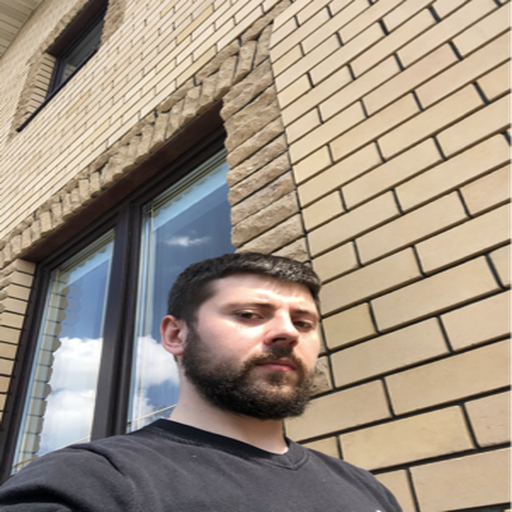person: (226, 294, 319, 404)
